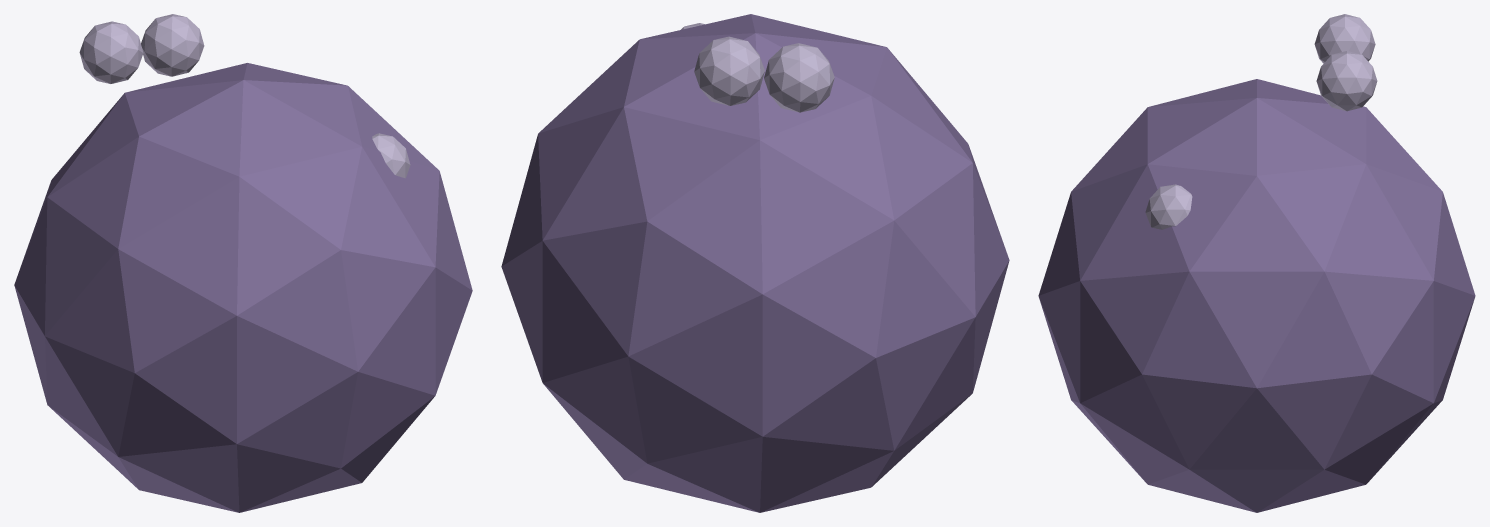
File: shadow_light_horror.glb
3 views of the same model, side by side, from view 1: azimuth 30°, elevation 25°; view 2: azimuth 150°, elevation 25°; view 3: azimuth 270°, elevation 25° (orthographic). The views are drawn at different scales.
Visible parts, largest first — view 1: geometry_0; view 2: geometry_0; view 3: geometry_0.
Part boxes in pixels (x1,y1,x2,y2): geometry_0: [14, 14, 472, 512]; geometry_0: [501, 14, 1009, 512]; geometry_0: [1038, 14, 1475, 512].
Bounding box in the file's own units: 0.86 × 0.9497 × 0.86.
